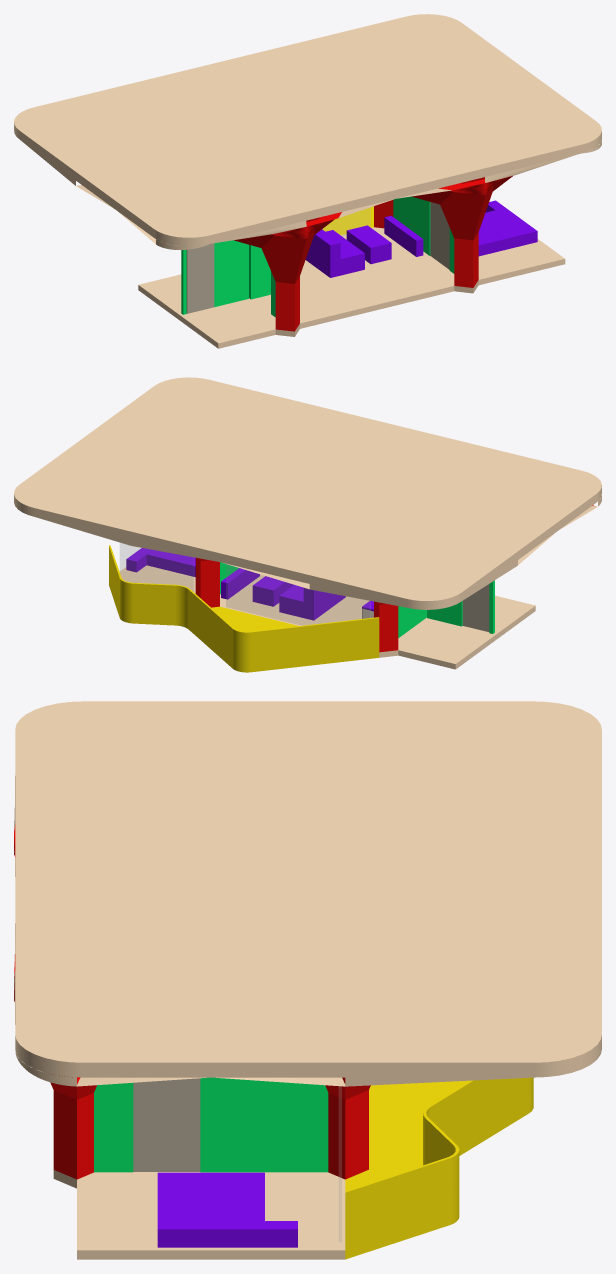
File: ROOM1.glb
3 renders of one model, top to bottom at view 1: azimuth 30°, elevation 25°; view 2: azimuth 150°, elevation 25°; view 3: azimuth 270°, elevation 25°, orthographic. The views are drawn at different scales.
Parts seen in each view (by area): view 1: slab, columns, furniture, internal walls, doors, balconies, windows; view 2: slab, balconies, windows, furniture, columns, internal walls, doors; view 3: slab, balconies, internal walls, furniture, columns, doors.
Boxes of the visible parts, <box> form: slab: <box>14,14,601,348</box>; columns: <box>234,176,512,331</box>; furniture: <box>305,200,537,277</box>; internal walls: <box>181,196,454,317</box>; doors: <box>186,202,449,313</box>; balconies: <box>322,206,373,235</box>; windows: <box>323,208,370,236</box>; slab: <box>14,377,601,669</box>; balconies: <box>109,545,379,672</box>; windows: <box>120,543,370,625</box>; furniture: <box>126,548,373,620</box>; columns: <box>195,505,593,652</box>; internal walls: <box>220,562,494,637</box>; doors: <box>462,584,489,631</box>; slab: <box>14,701,601,1259</box>; balconies: <box>345,1077,533,1259</box>; internal walls: <box>94,1077,328,1172</box>; furniture: <box>157,1172,297,1247</box>; columns: <box>14,824,370,1179</box>; doors: <box>133,1078,200,1171</box>.
Size of the model in its own units: 12.75 by 3.68 by 8.77.
